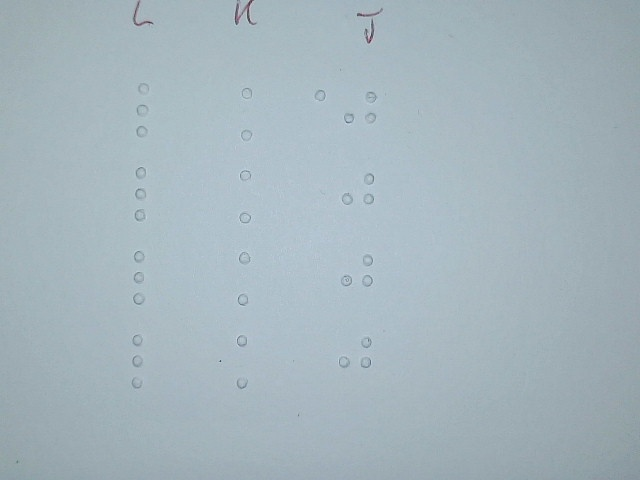J: (340, 80, 380, 149), (338, 163, 378, 232), (337, 245, 377, 314), (335, 326, 375, 395)
K: (234, 80, 276, 148), (234, 164, 276, 232), (231, 244, 273, 312), (231, 328, 273, 396)
L: (131, 77, 173, 145), (128, 159, 170, 227), (127, 245, 169, 313), (126, 327, 168, 395)
